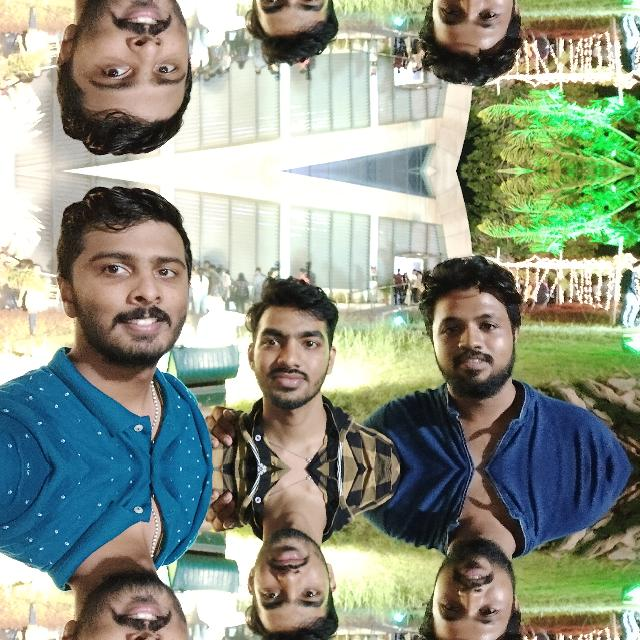person: (48, 175, 204, 423), (403, 242, 543, 428), (47, 0, 204, 165), (238, 266, 366, 452), (237, 484, 366, 640), (47, 513, 204, 640), (403, 507, 543, 640), (403, 0, 543, 98), (237, 0, 366, 74)
